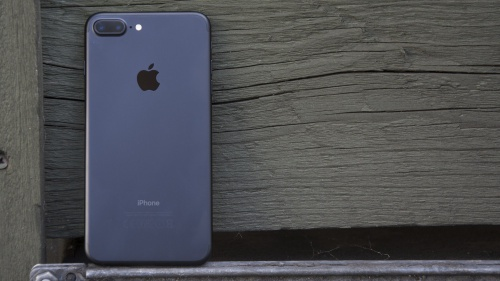apple: (130, 56, 170, 109)
